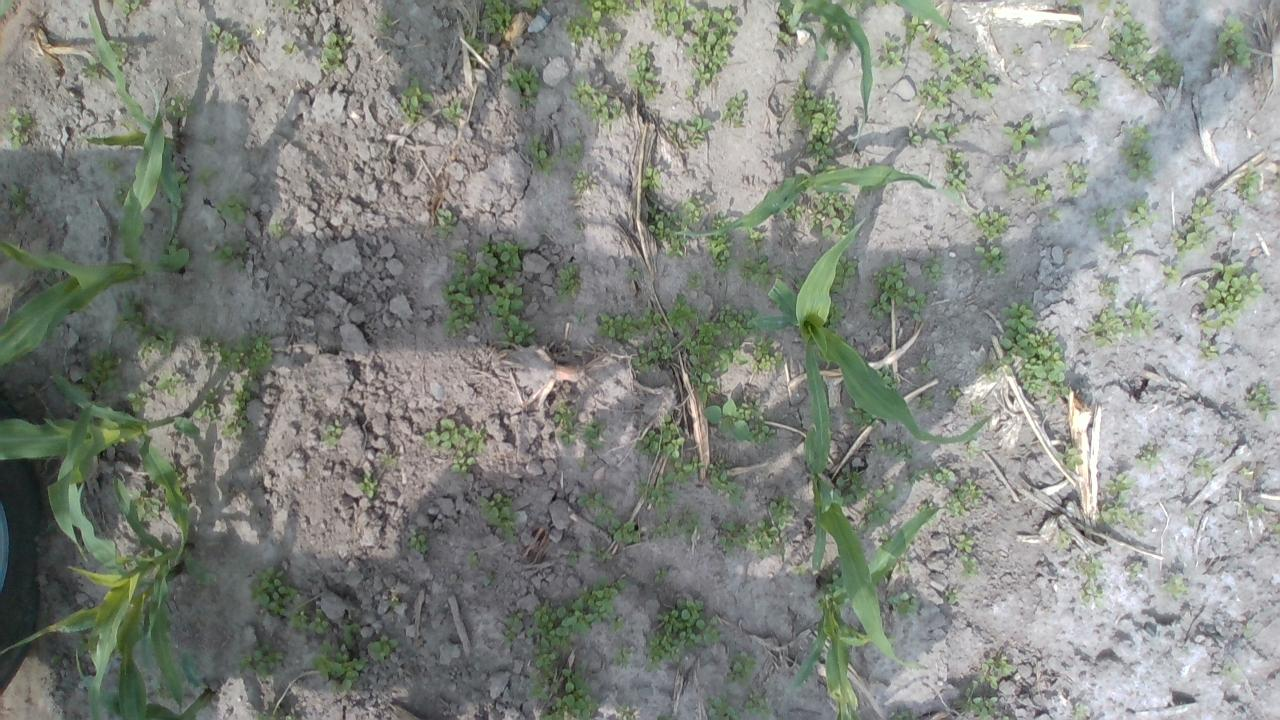Maize: (0, 400, 219, 720), (754, 214, 994, 470), (0, 403, 188, 720), (0, 75, 189, 368), (802, 334, 934, 671), (0, 365, 207, 570), (783, 503, 955, 720), (774, 0, 960, 160), (77, 1, 192, 246), (677, 161, 967, 236), (68, 639, 211, 720)
Weeds: (526, 574, 634, 701), (666, 292, 765, 404), (438, 236, 537, 346), (997, 298, 1071, 404), (1106, 20, 1184, 95), (646, 596, 720, 672), (788, 69, 842, 172), (1194, 260, 1263, 334), (914, 52, 998, 112), (684, 4, 740, 93), (113, 288, 179, 358), (864, 260, 929, 324), (646, 194, 706, 258), (422, 418, 487, 476), (636, 455, 702, 512), (1082, 298, 1156, 348), (702, 397, 776, 447), (574, 490, 641, 544), (564, 0, 632, 52), (538, 664, 601, 720), (199, 328, 273, 375), (306, 640, 366, 695), (1170, 194, 1217, 261), (715, 518, 787, 560), (570, 75, 626, 128), (901, 12, 950, 71), (248, 564, 298, 620), (633, 0, 699, 39), (1092, 494, 1149, 539), (636, 413, 686, 464), (222, 373, 258, 442), (808, 190, 856, 240), (1118, 122, 1158, 182), (953, 679, 1011, 720), (596, 308, 664, 342), (80, 346, 126, 395), (478, 493, 520, 543), (855, 484, 897, 534), (1065, 552, 1105, 604), (1212, 16, 1252, 68), (502, 61, 544, 108), (628, 42, 662, 100), (237, 639, 286, 678), (1001, 116, 1048, 156), (648, 511, 701, 546), (707, 209, 735, 275), (398, 72, 432, 126), (1061, 66, 1101, 110), (706, 458, 744, 504), (746, 334, 788, 374), (630, 333, 672, 373), (817, 12, 857, 54), (207, 236, 250, 274), (966, 207, 1014, 241), (738, 254, 784, 289), (666, 114, 712, 148), (946, 476, 982, 519), (524, 134, 559, 178), (319, 30, 352, 76), (128, 484, 164, 524), (1246, 381, 1280, 423), (831, 466, 868, 504), (978, 654, 1016, 690), (206, 19, 244, 54), (5, 104, 33, 150), (868, 434, 914, 462), (290, 606, 332, 636), (830, 254, 860, 296), (478, 0, 512, 37), (214, 193, 252, 226), (1060, 160, 1092, 199), (869, 36, 905, 70), (944, 147, 970, 194), (551, 402, 579, 444), (1124, 196, 1156, 232), (1236, 163, 1262, 206), (556, 261, 582, 303), (706, 691, 742, 720), (720, 91, 749, 127), (974, 244, 1008, 274), (742, 687, 774, 718), (844, 397, 876, 428), (726, 651, 756, 684), (464, 26, 487, 68), (908, 466, 956, 486), (192, 387, 220, 421), (150, 674, 178, 708), (886, 591, 922, 617), (254, 700, 299, 720), (164, 92, 195, 121), (1002, 160, 1028, 194), (872, 363, 902, 392), (1160, 572, 1189, 602), (502, 608, 525, 645), (1050, 22, 1084, 47), (929, 120, 964, 144), (768, 493, 794, 525), (366, 636, 399, 661), (432, 207, 458, 238), (572, 167, 598, 198), (154, 372, 186, 397), (356, 468, 380, 500), (920, 254, 946, 283), (580, 420, 605, 450), (1104, 226, 1134, 251), (170, 160, 190, 197), (1088, 204, 1116, 230), (1028, 174, 1052, 204), (1058, 442, 1082, 472), (833, 0, 888, 13), (6, 184, 28, 216), (125, 383, 150, 411), (1136, 443, 1164, 468), (825, 300, 846, 333), (1102, 471, 1132, 494), (560, 137, 585, 164), (1192, 456, 1217, 483), (339, 616, 362, 645), (155, 232, 180, 258), (976, 356, 1002, 381), (406, 526, 429, 554), (322, 418, 344, 447), (107, 38, 129, 66), (916, 500, 938, 528), (641, 165, 663, 192), (890, 546, 911, 574), (99, 154, 123, 178), (1195, 337, 1219, 361), (80, 57, 103, 82), (440, 101, 465, 124), (111, 180, 132, 207), (271, 0, 311, 14), (741, 226, 764, 250), (1162, 262, 1184, 286), (960, 554, 980, 580), (588, 545, 614, 564), (1112, 0, 1134, 22), (1218, 662, 1240, 683), (40, 268, 65, 286), (954, 532, 974, 554), (915, 390, 937, 410), (1124, 558, 1143, 581), (684, 270, 704, 291), (784, 201, 805, 221), (888, 706, 918, 720), (1057, 0, 1087, 14), (616, 701, 638, 720), (1224, 210, 1242, 233), (76, 628, 90, 657), (964, 440, 984, 460), (913, 354, 934, 373), (279, 39, 301, 57), (944, 588, 966, 606), (119, 0, 142, 17), (514, 0, 544, 13), (1097, 280, 1116, 300), (622, 264, 642, 282), (196, 168, 218, 184), (374, 14, 396, 30), (1056, 529, 1072, 551), (268, 220, 286, 239), (821, 564, 840, 582), (873, 532, 892, 550), (944, 384, 965, 400), (776, 0, 791, 22), (906, 128, 923, 147), (776, 30, 794, 46), (1091, 0, 1113, 13), (1048, 206, 1064, 223), (1238, 466, 1256, 481), (1072, 701, 1086, 720), (1184, 508, 1198, 527), (466, 550, 482, 566), (792, 274, 808, 290), (566, 550, 581, 566), (970, 401, 986, 416), (1114, 253, 1134, 265), (43, 521, 61, 534), (683, 85, 696, 103), (380, 453, 398, 466), (1247, 503, 1265, 516), (49, 654, 63, 668), (1243, 621, 1254, 638), (654, 568, 667, 582), (482, 572, 495, 586), (655, 713, 679, 720), (792, 564, 806, 576), (1012, 44, 1024, 57), (390, 594, 401, 608), (577, 456, 588, 470), (573, 219, 585, 231), (576, 310, 586, 324), (1273, 522, 1280, 533)
